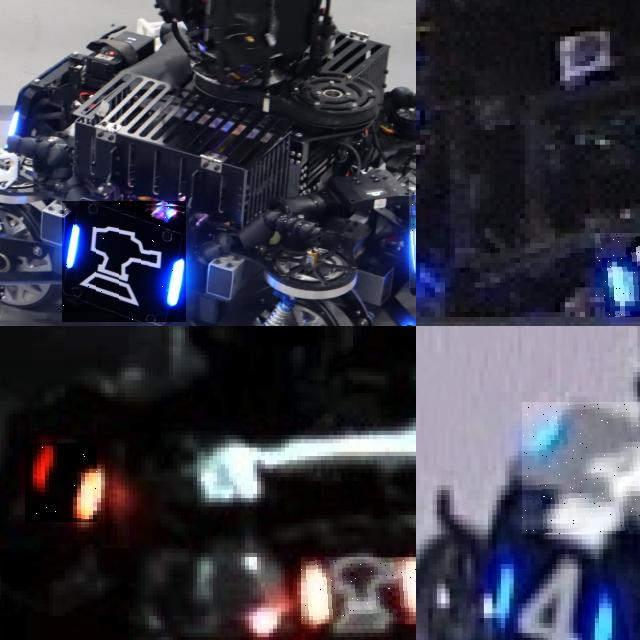B2: (595, 233, 640, 316)
B4: (522, 401, 640, 534), (479, 534, 616, 640)
Bs: (62, 201, 186, 322)
Rs: (301, 556, 416, 624), (25, 444, 97, 524)
